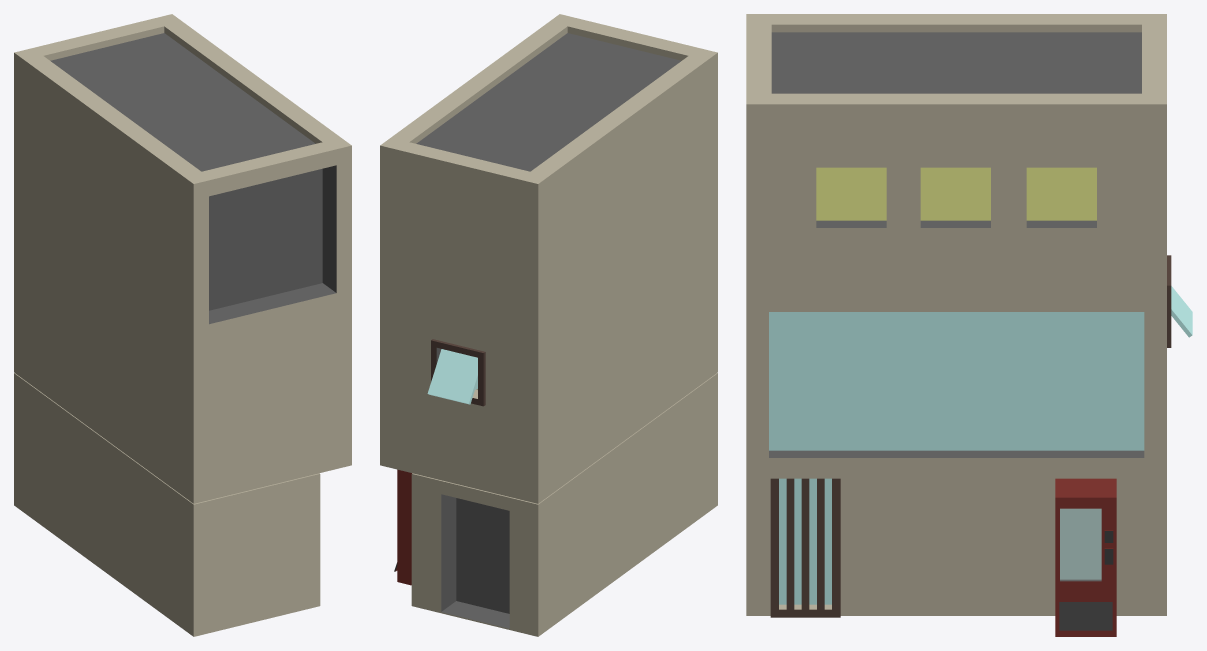
File: edificop3.fbx
3 views of the same model, side by side, from view 1: azimuth 30°, elevation 25°; view 2: azimuth 150°, elevation 25°; view 3: azimuth 270°, elevation 25° (orthographic). The views are drawn at different scales.
Visible parts, largest first — view 1: edifico3; view 2: edifico3; view 3: edifico3.
Boxes of the visible parts, x1=… form: edifico3: x1=14, y1=14, x2=351, y2=636; edifico3: x1=380, y1=14, x2=717, y2=636; edifico3: x1=746, y1=14, x2=1192, y2=636.
Size of the model in its own units: 179 by 464 by 354.
